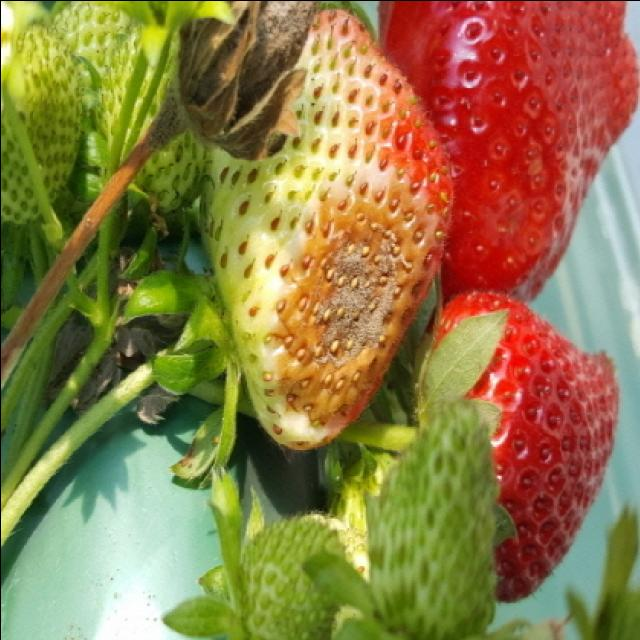Gray Mold: (263, 188, 437, 435), (147, 2, 319, 162)
